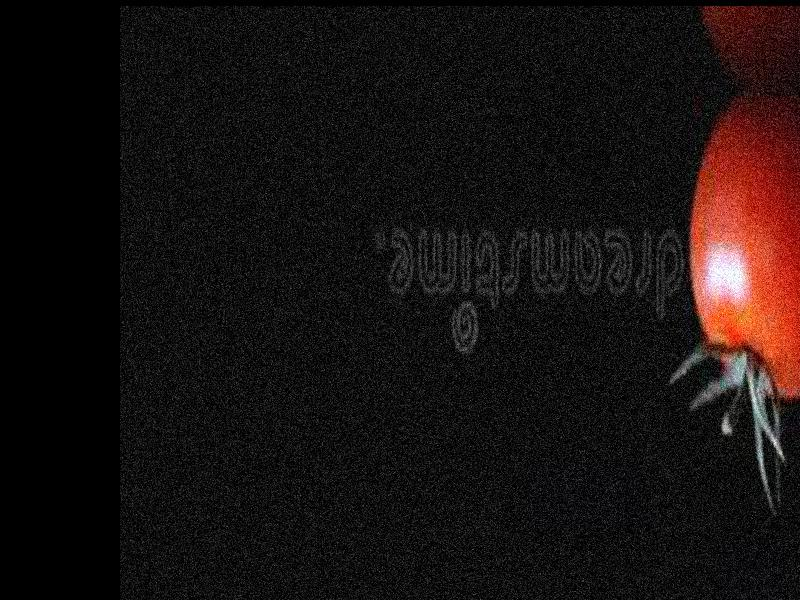Tomato: (689, 96, 800, 400)
